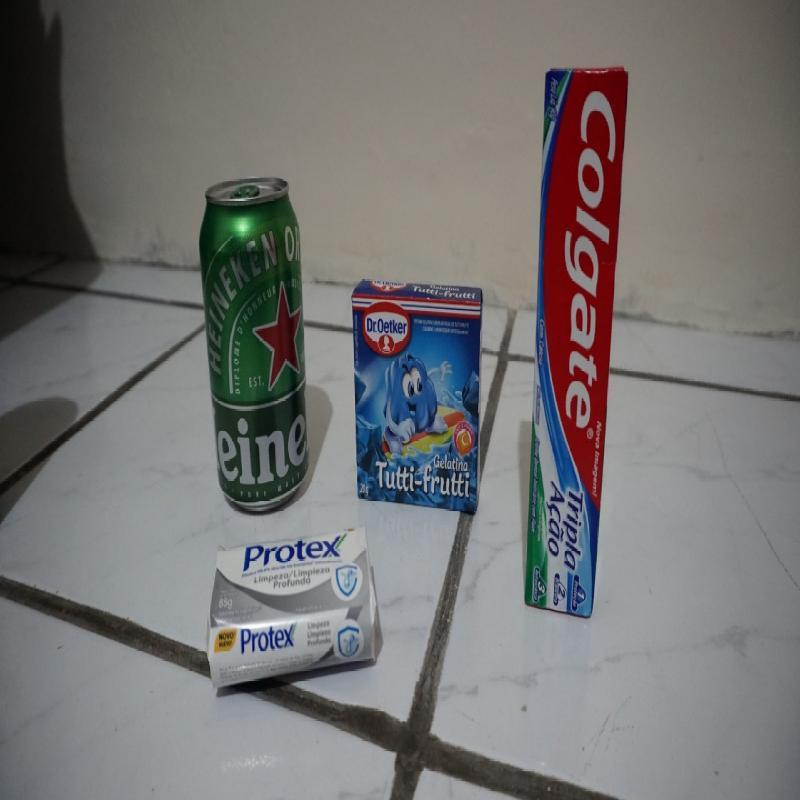Beer can: (195, 179, 310, 510)
Gelatine: (349, 276, 483, 512)
Soap: (204, 526, 376, 687)
Toothpaste: (523, 67, 628, 615)
